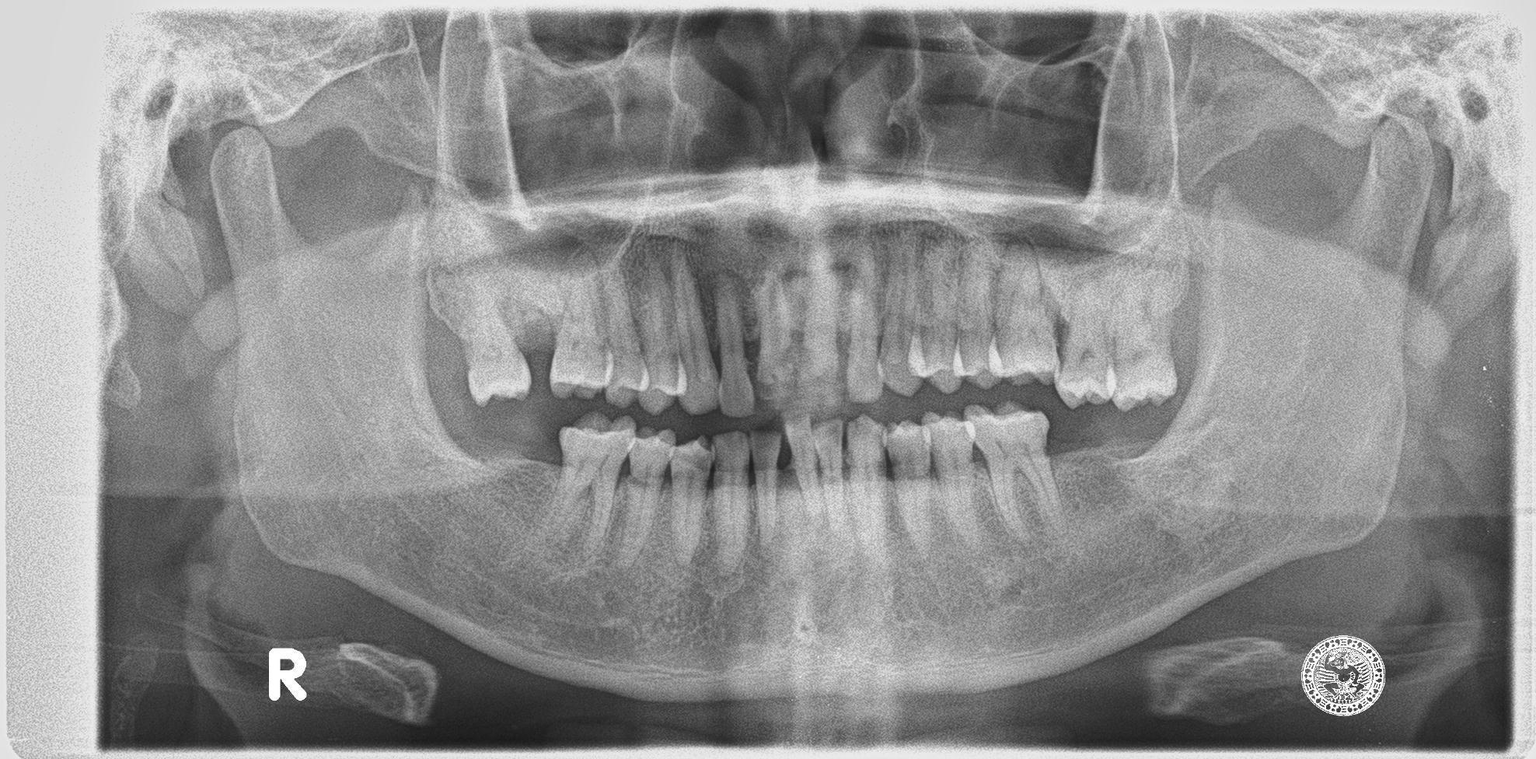Individual Tooth: (962, 399, 1070, 541), (553, 414, 636, 565), (440, 274, 531, 405), (990, 242, 1062, 388), (1108, 269, 1179, 409), (906, 240, 964, 393), (875, 230, 926, 400), (613, 428, 675, 567), (922, 409, 983, 547), (670, 247, 719, 414), (638, 246, 686, 414), (879, 419, 934, 563), (953, 241, 1004, 389), (550, 274, 609, 397), (1056, 290, 1118, 406), (800, 241, 840, 402), (847, 414, 888, 565), (601, 271, 645, 405), (716, 275, 755, 414), (669, 439, 712, 565), (807, 420, 851, 536), (848, 257, 883, 402), (756, 270, 795, 400), (712, 432, 749, 568), (782, 416, 825, 522), (750, 430, 782, 547)
